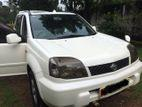car: (1, 9, 142, 103)
